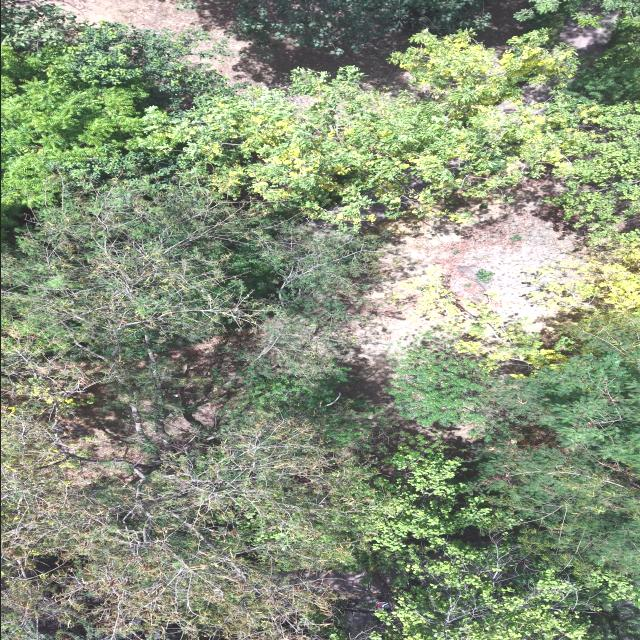DRY_AREA: (337, 181, 573, 416), (346, 180, 578, 414), (342, 180, 574, 406), (348, 180, 578, 406), (344, 180, 574, 405), (350, 180, 577, 405), (352, 180, 579, 402), (355, 181, 573, 398), (360, 181, 573, 359), (360, 181, 574, 357), (52, 0, 408, 89), (53, 0, 409, 88), (63, 0, 405, 88), (54, 336, 224, 487), (61, 0, 263, 83), (290, 570, 390, 639), (52, 0, 241, 33), (322, 570, 389, 639), (558, 11, 618, 68), (558, 11, 617, 68), (291, 570, 384, 606), (559, 12, 617, 57), (476, 0, 530, 47)
VEGETATION_TREE: (1, 0, 639, 639), (2, 7, 374, 637), (372, 319, 638, 639), (3, 413, 374, 638), (370, 438, 636, 639), (2, 5, 230, 210), (229, 0, 495, 53), (233, 0, 488, 53), (388, 348, 488, 428), (569, 24, 639, 104), (514, 0, 639, 26)
